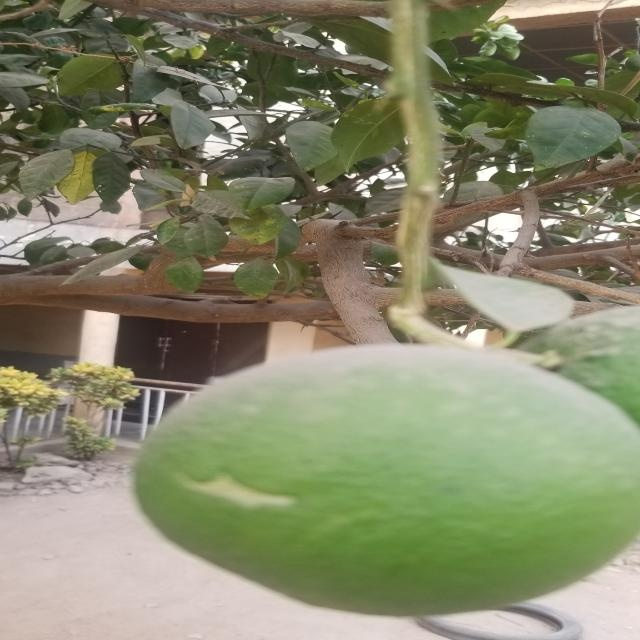agrume: (134, 346, 630, 616)
